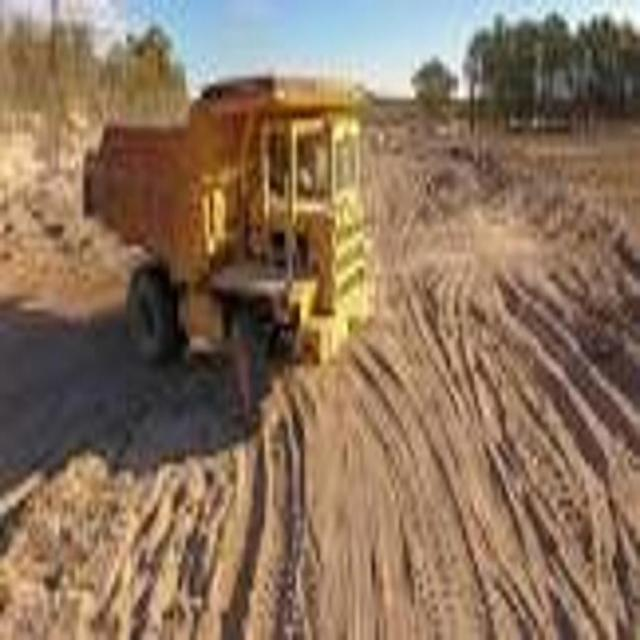dump_truck: (81, 54, 385, 425)
